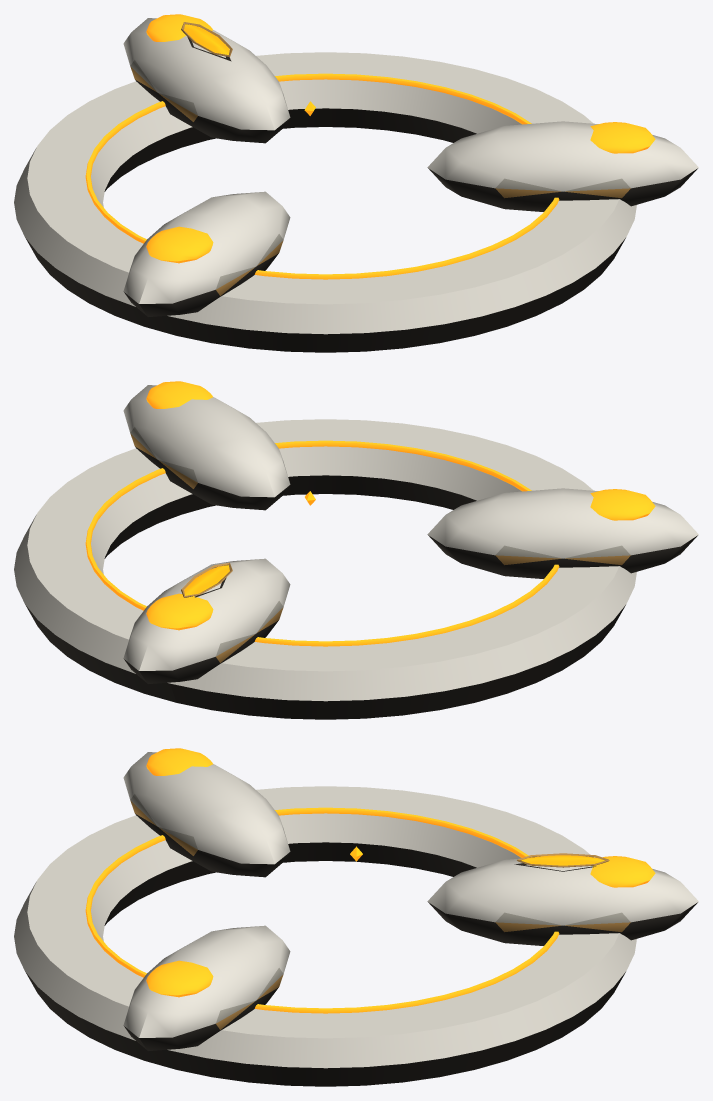
File: 05_abwehrplattform.glb
3 views of the same model, one above another, from view 1: azimuth 30°, elevation 25°; view 2: azimuth 150°, elevation 25°; view 3: azimuth 270°, elevation 25° (orthographic).
Visible parts, largest first — view 1: Hull; view 2: Hull; view 3: Hull.
Boxes of the visible parts, left/top/right/bottom form: Hull: left=14, top=14, right=698, bottom=352; Hull: left=14, top=381, right=698, bottom=719; Hull: left=14, top=748, right=698, bottom=1086.
Size of the model in its own units: 8.5 by 1.66 by 9.
